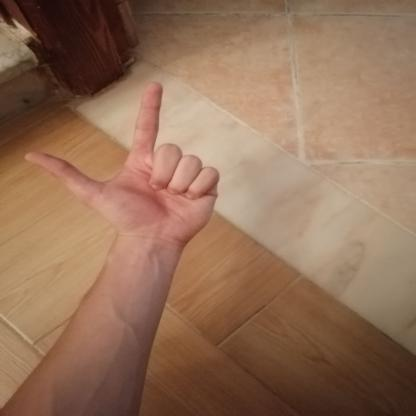LAAM: (8, 71, 235, 253)
